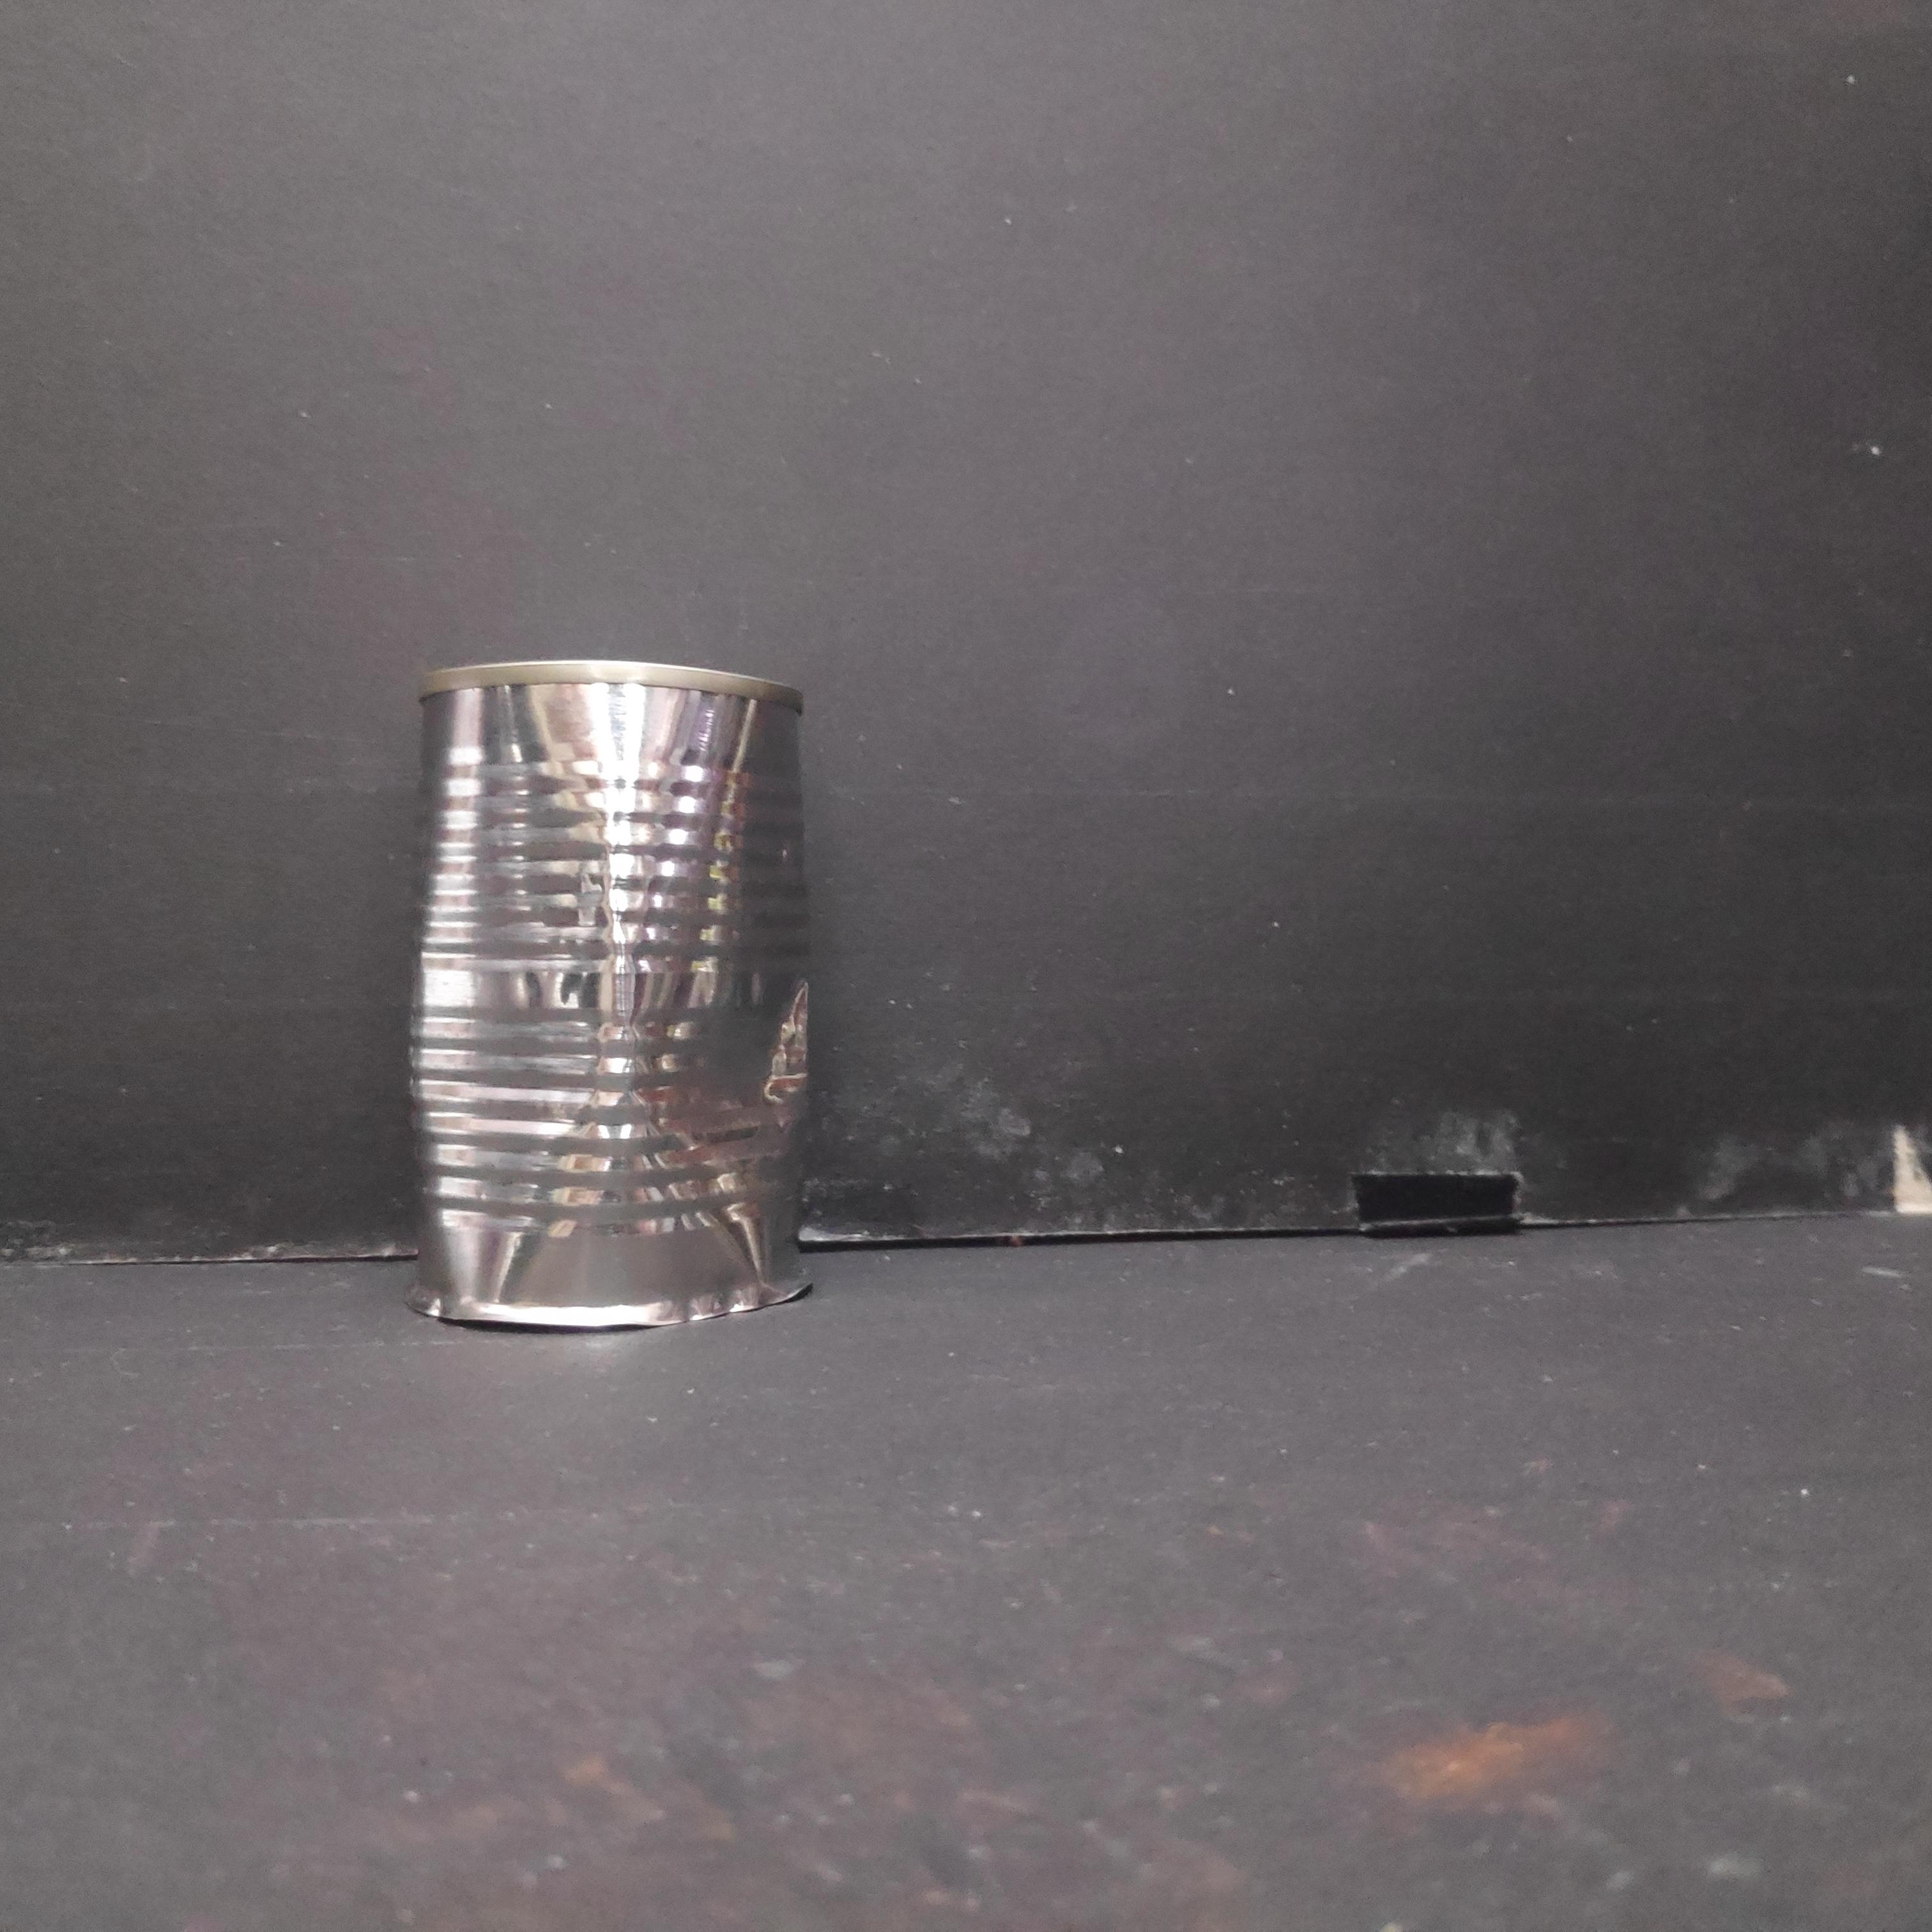Minor Defect: (395, 649, 832, 1332)
